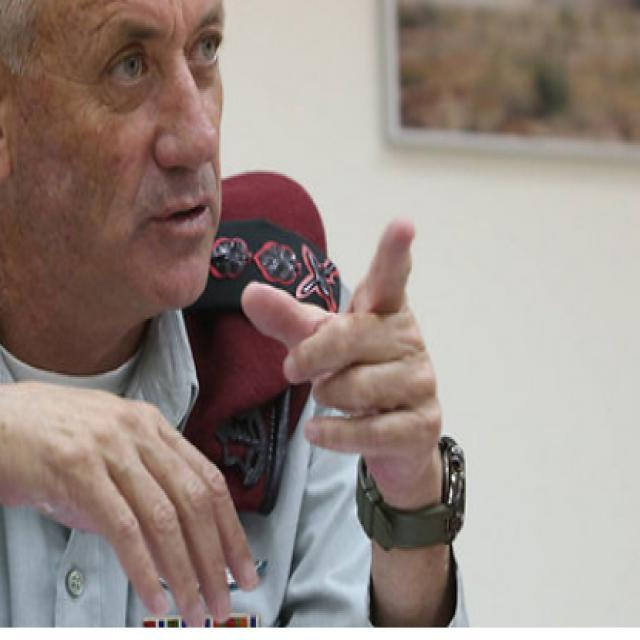Watch: (355, 436, 471, 550)
